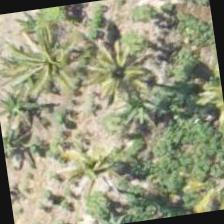Kelapa_Sawit: (4, 13, 106, 116), (44, 119, 146, 221), (69, 22, 170, 124), (147, 154, 223, 220)
